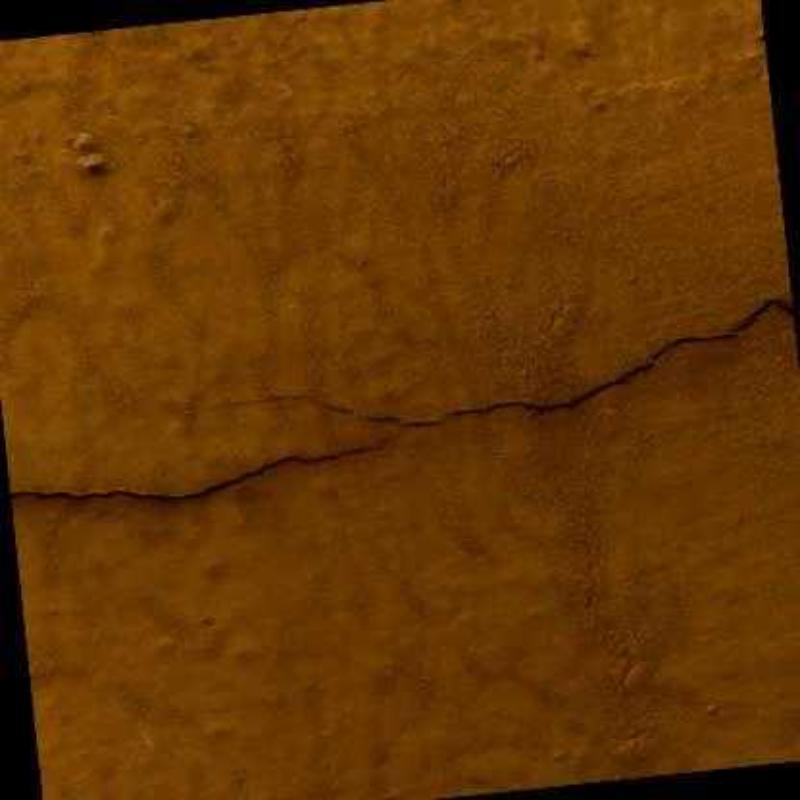crack: (207, 299, 794, 427), (8, 446, 386, 500)
